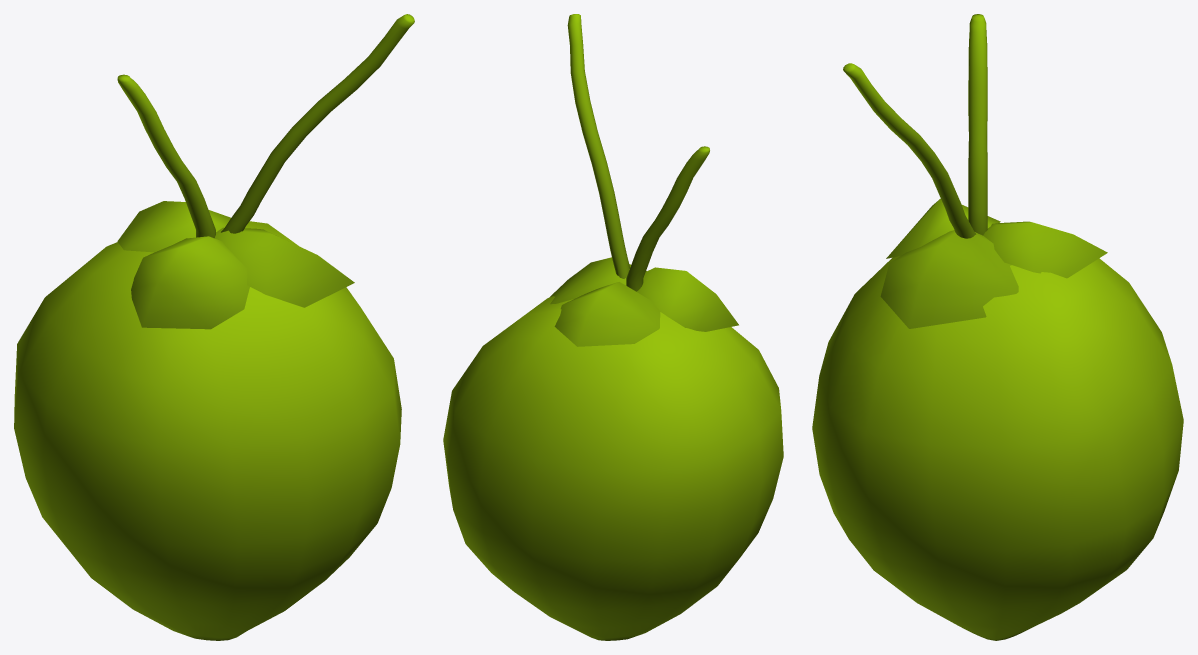
Rendered from Farm_Tree_Product_Green_Coconut_01.fbx.
3 renders of one model, left to right at view 1: azimuth 30°, elevation 25°; view 2: azimuth 150°, elevation 25°; view 3: azimuth 270°, elevation 25°, orthographic. The views are drawn at different scales.
Visible parts, largest first — view 1: Farm_Tree_Product_Green_Coconut_01; view 2: Farm_Tree_Product_Green_Coconut_01; view 3: Farm_Tree_Product_Green_Coconut_01.
Boxes of the visible parts, x1,y1,x2,y2 form: Farm_Tree_Product_Green_Coconut_01: [14, 14, 414, 640]; Farm_Tree_Product_Green_Coconut_01: [443, 14, 783, 640]; Farm_Tree_Product_Green_Coconut_01: [812, 14, 1183, 640].
Size of the model in its own units: 71.07 by 127 by 68.84.
